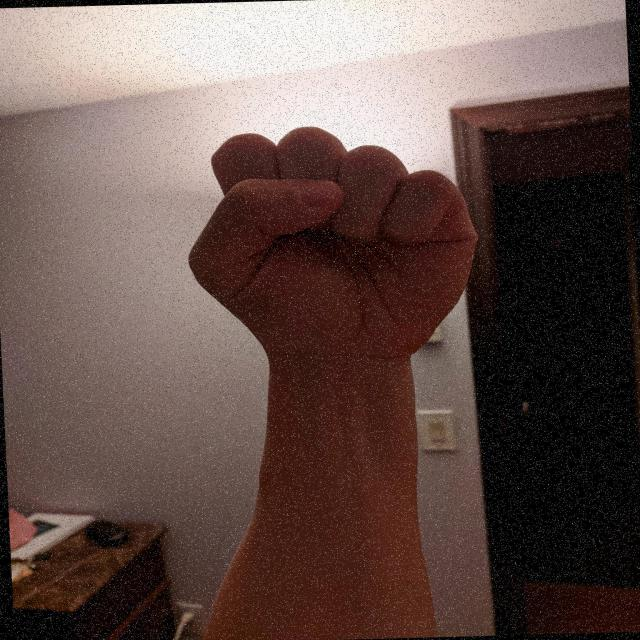S: (174, 115, 489, 371)
